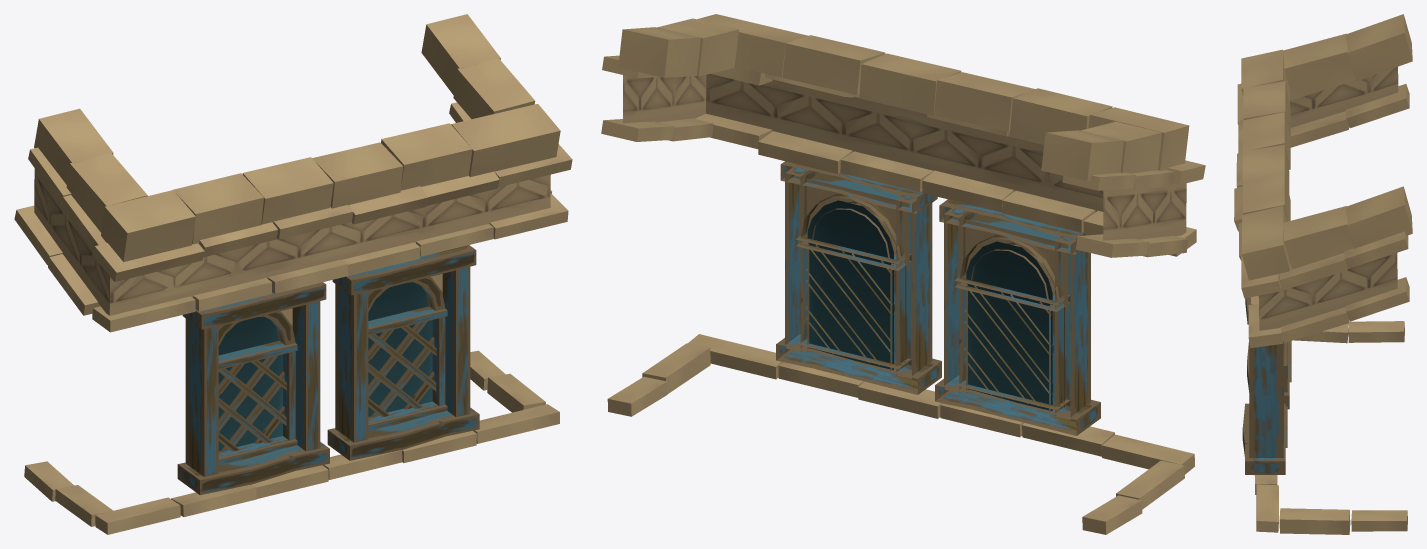
File: A_Addon_BigWindow_C_KitPart.FBX
3 renders of one model, left to right at view 1: azimuth 30°, elevation 25°; view 2: azimuth 150°, elevation 25°; view 3: azimuth 270°, elevation 25°, orthographic. The views are drawn at different scales.
Visible parts, largest first — view 1: A_Addon_BigWindow_C_KitPart; view 2: A_Addon_BigWindow_C_KitPart; view 3: A_Addon_BigWindow_C_KitPart.
Boxes of the visible parts, x1=… form: A_Addon_BigWindow_C_KitPart: x1=14, y1=14, x2=572, y2=534; A_Addon_BigWindow_C_KitPart: x1=601, y1=14, x2=1205, y2=534; A_Addon_BigWindow_C_KitPart: x1=1234, y1=14, x2=1412, y2=534.
Size of the model in its own units: 293 by 215 by 106.
1 material, 1 textured.
